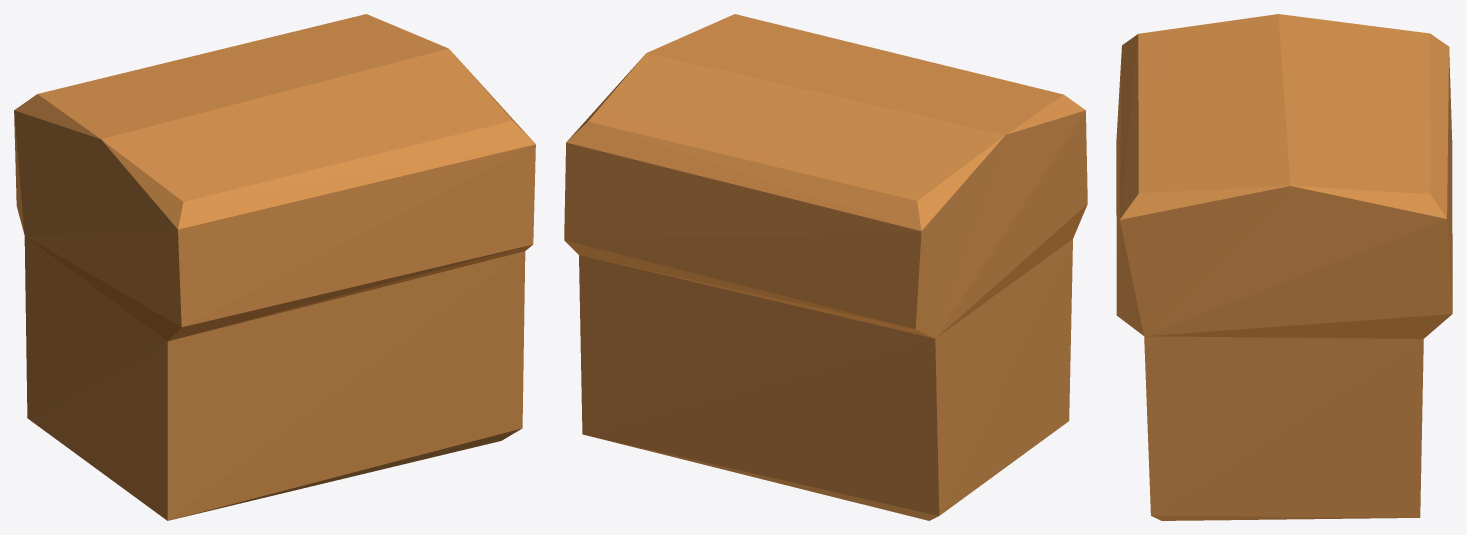
File: Bread_02.fbx
3 views of the same model, side by side, from view 1: azimuth 30°, elevation 25°; view 2: azimuth 150°, elevation 25°; view 3: azimuth 270°, elevation 25° (orthographic).
Parts seen in each view (by area): view 1: Bread_02; view 2: Bread_02; view 3: Bread_02.
Boxes of the visible parts, x1,y1,x2,y2 form: Bread_02: [14, 14, 535, 520]; Bread_02: [564, 14, 1087, 520]; Bread_02: [1116, 14, 1452, 520].
Bounding box in the file's own units: 17.02 × 15.41 × 13.78.
